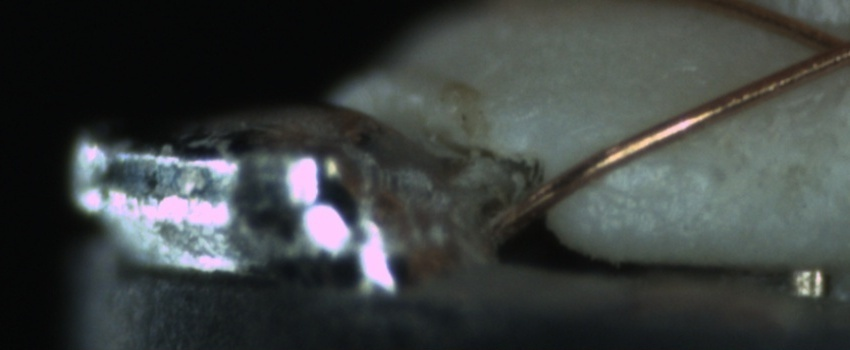CL: (796, 16, 850, 77)
